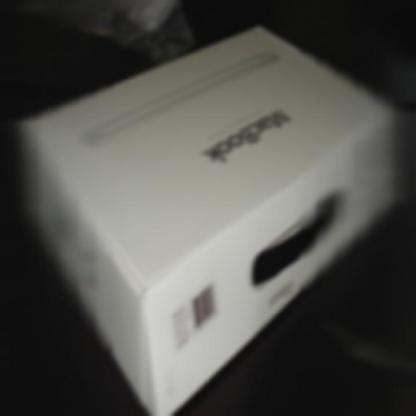-: (22, 21, 400, 416)
